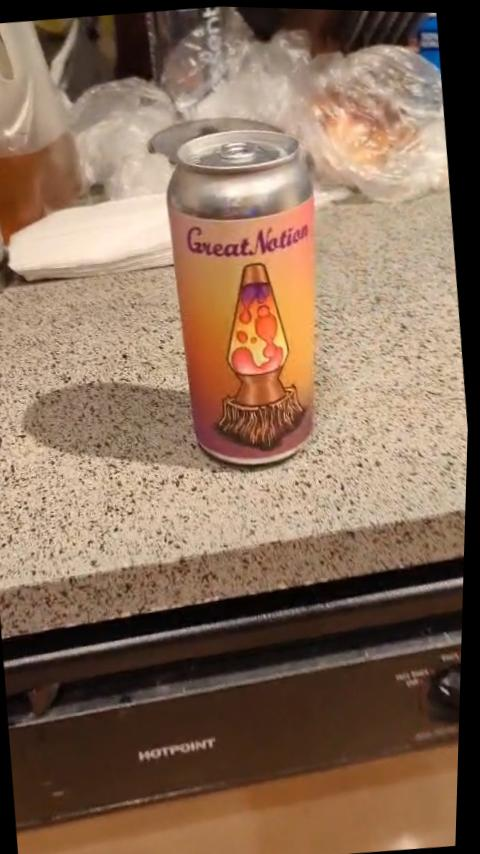metal: (153, 119, 315, 465)
